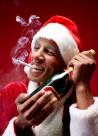smoke: (15, 58, 37, 69)
